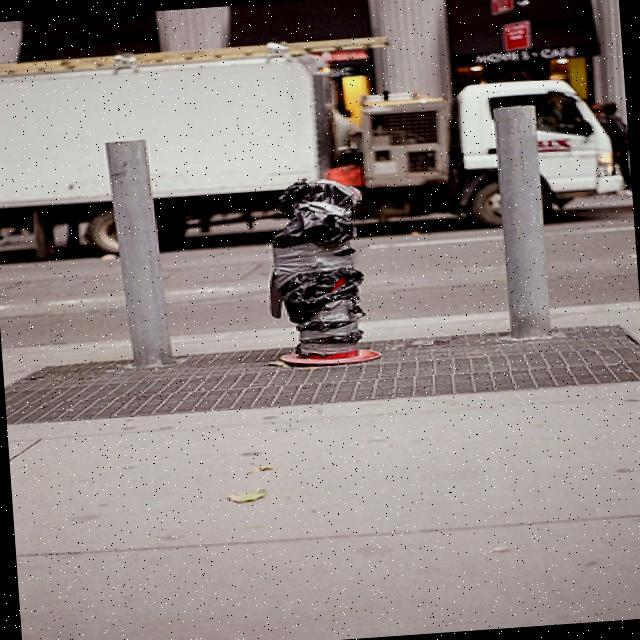fire_hydrant: (266, 170, 380, 368)
